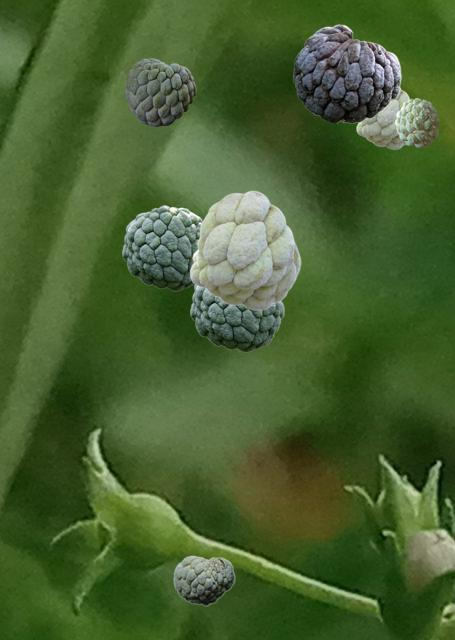atis: (189, 190, 300, 309), (293, 24, 400, 122), (122, 205, 202, 290), (190, 286, 283, 351), (125, 58, 195, 125), (356, 88, 409, 148), (173, 555, 234, 605), (395, 98, 438, 146)
